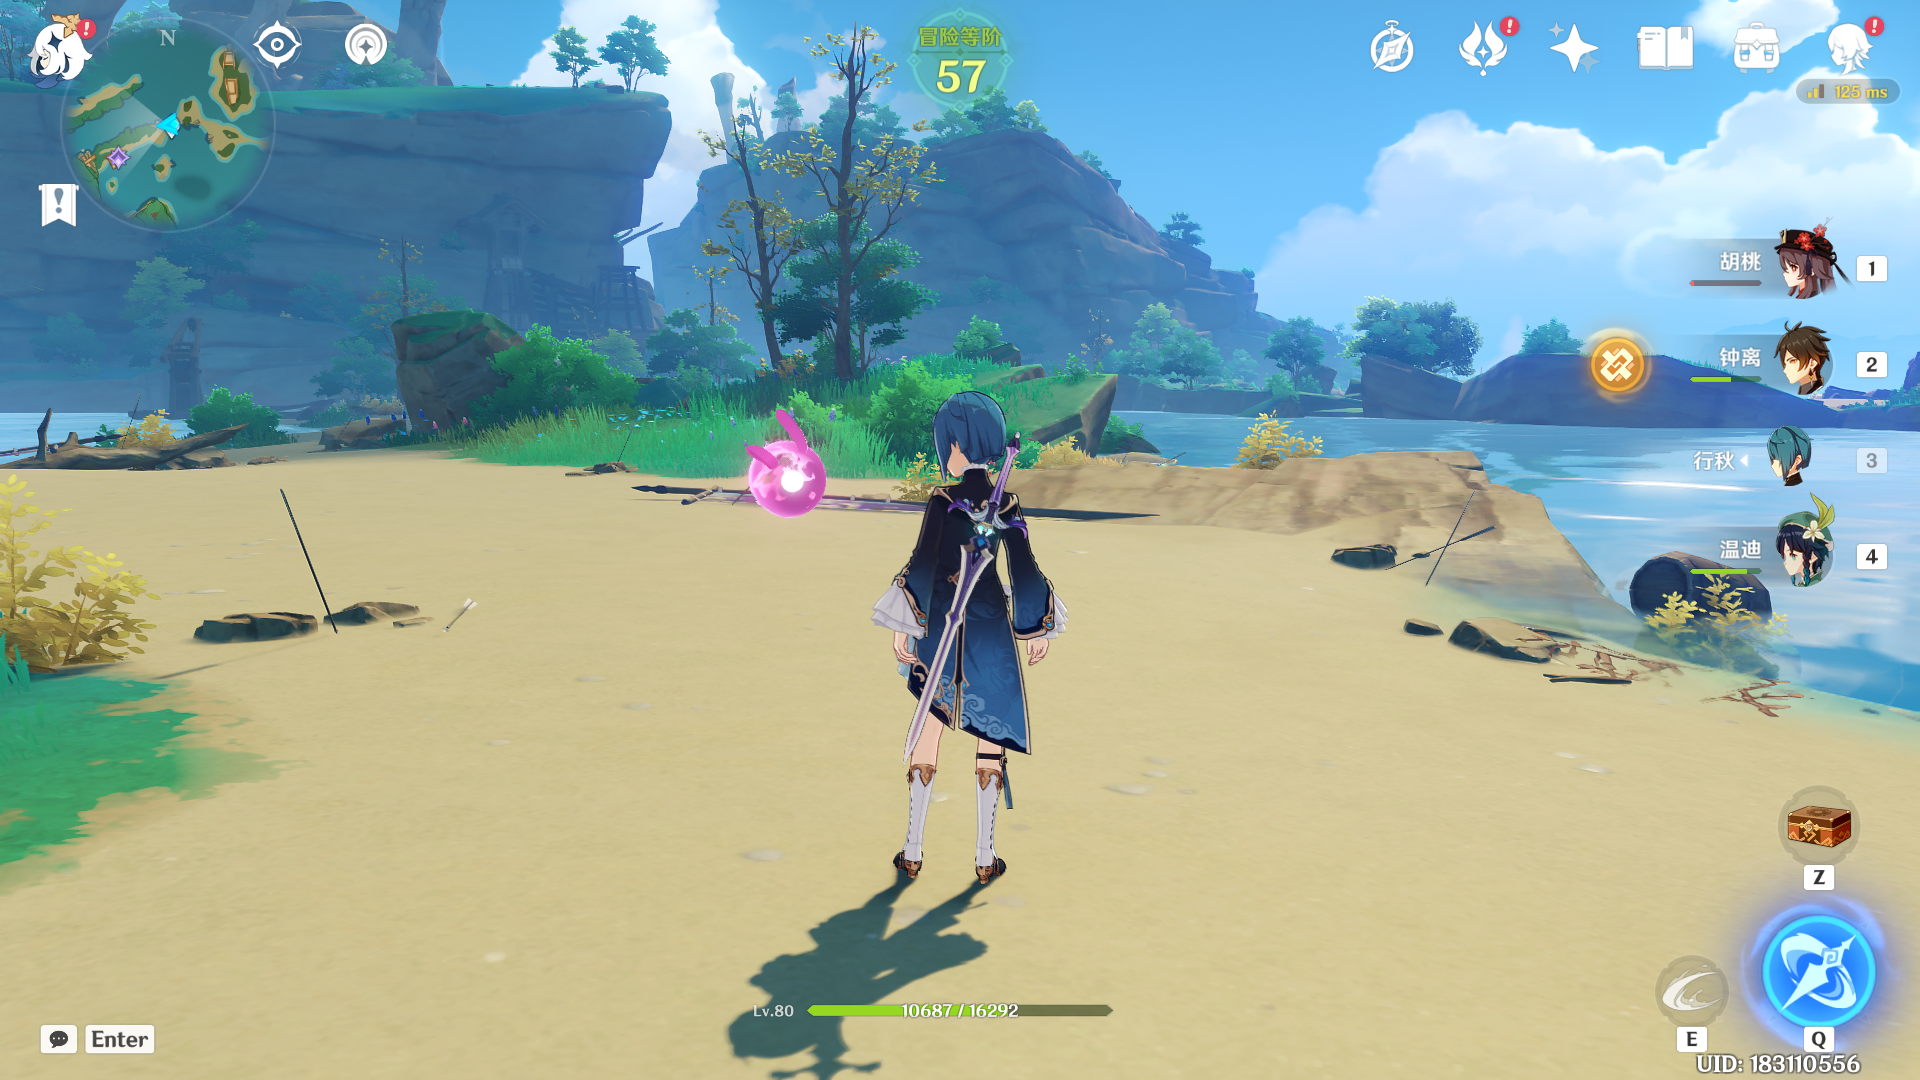character: (811, 349, 1108, 907)
